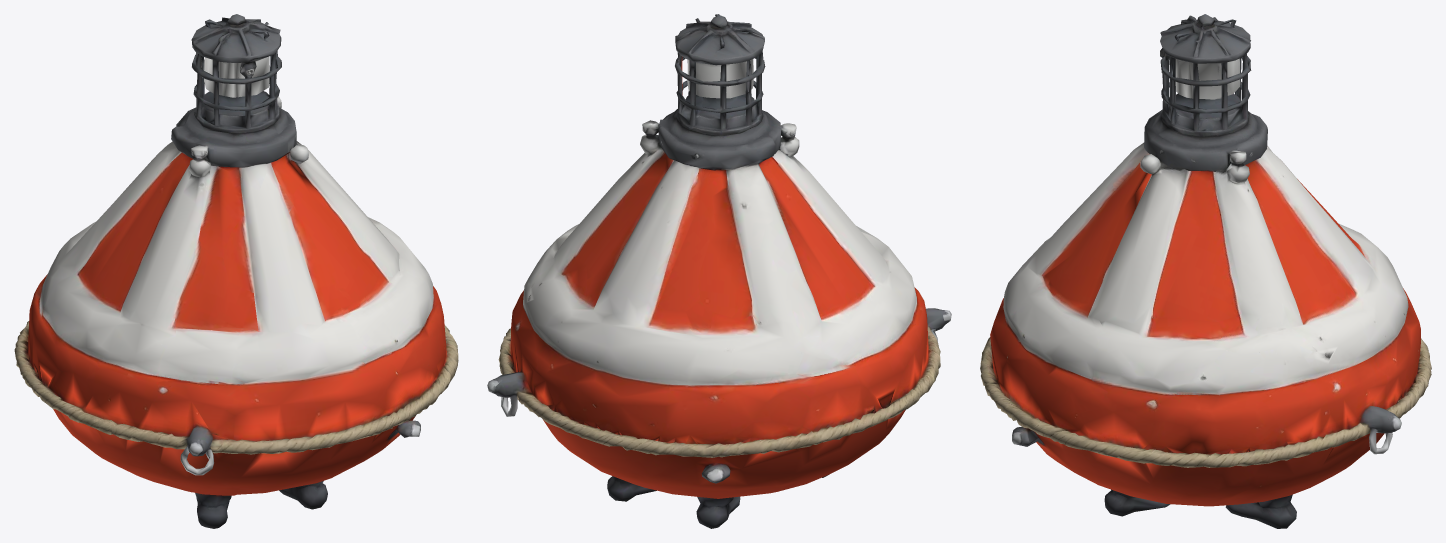
Rendered from prop-buoy.glb.
3 views of the same model, side by side, from view 1: azimuth 30°, elevation 25°; view 2: azimuth 150°, elevation 25°; view 3: azimuth 270°, elevation 25° (orthographic). The views are drawn at different scales.
Parts seen in each view (by area): view 1: tripo_node_d0b0eb9f-4762-4e90-a58d-2c53205c0bef; view 2: tripo_node_d0b0eb9f-4762-4e90-a58d-2c53205c0bef; view 3: tripo_node_d0b0eb9f-4762-4e90-a58d-2c53205c0bef.
Boxes of the visible parts, box(x1,y1,x2,y2) form: tripo_node_d0b0eb9f-4762-4e90-a58d-2c53205c0bef: box(14, 14, 458, 528); tripo_node_d0b0eb9f-4762-4e90-a58d-2c53205c0bef: box(487, 14, 951, 528); tripo_node_d0b0eb9f-4762-4e90-a58d-2c53205c0bef: box(980, 14, 1431, 528).
Bounding box in the file's own units: 0.8513 × 1 × 0.8472.
Materials: 1 (1 with a texture image).
